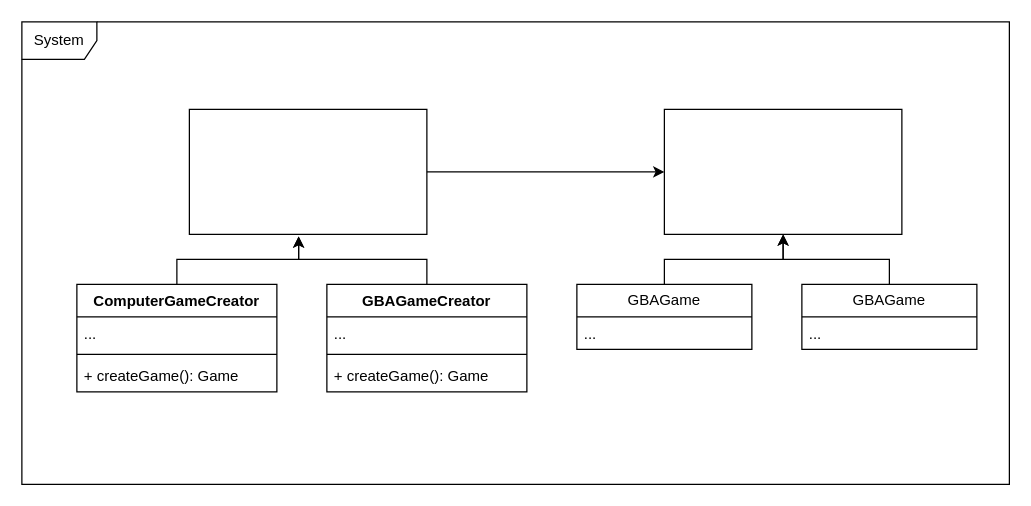
This 1031x506 diagram has some shape labels left out. The shapes that lost their labels are listed below. From the top down, each one's box as (x1, y1, x2, y2) in pixels, then its label:
(188, 108, 427, 234): <<Interface>> GameCreator ... + createGame(): Game
(663, 108, 902, 234): <<Interface>> Game ... + start(): Void + pause(): Void
